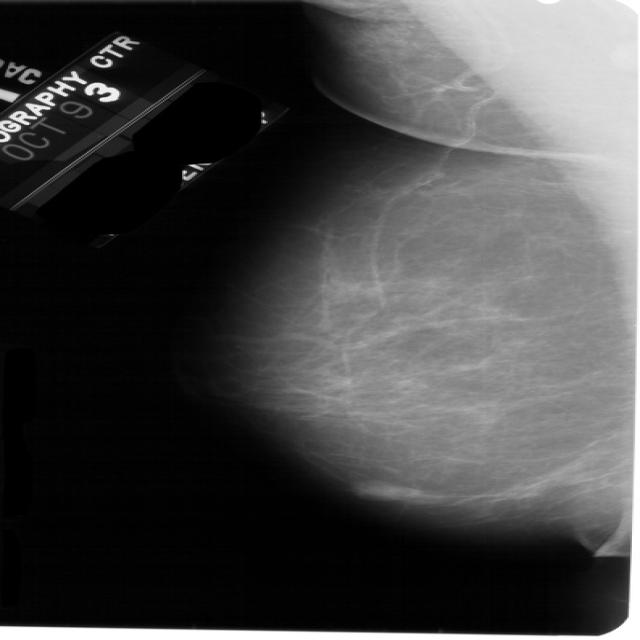tumour: (346, 479, 426, 500)
